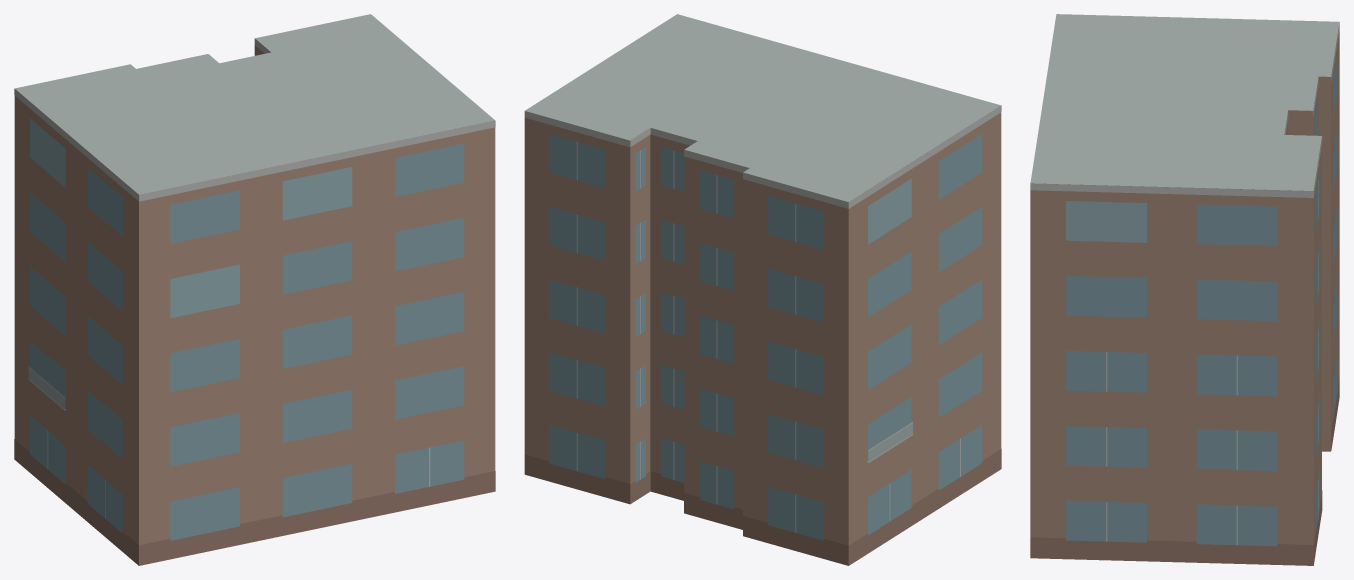
The model's file is survey-upis-32559917.glb.
3 views of the same model, side by side, from view 1: azimuth 30°, elevation 25°; view 2: azimuth 150°, elevation 25°; view 3: azimuth 270°, elevation 25° (orthographic). The views are drawn at different scales.
Visible parts, largest first — view 1: survey-upis-32559917.tmp; view 2: survey-upis-32559917.tmp; view 3: survey-upis-32559917.tmp.
Boxes of the visible parts, bbox=[...] form: survey-upis-32559917.tmp: bbox=[14, 14, 495, 565]; survey-upis-32559917.tmp: bbox=[524, 14, 1001, 565]; survey-upis-32559917.tmp: bbox=[1030, 14, 1339, 565].
Bounding box in the file's own units: 13.38 × 13.2 × 9.88.
